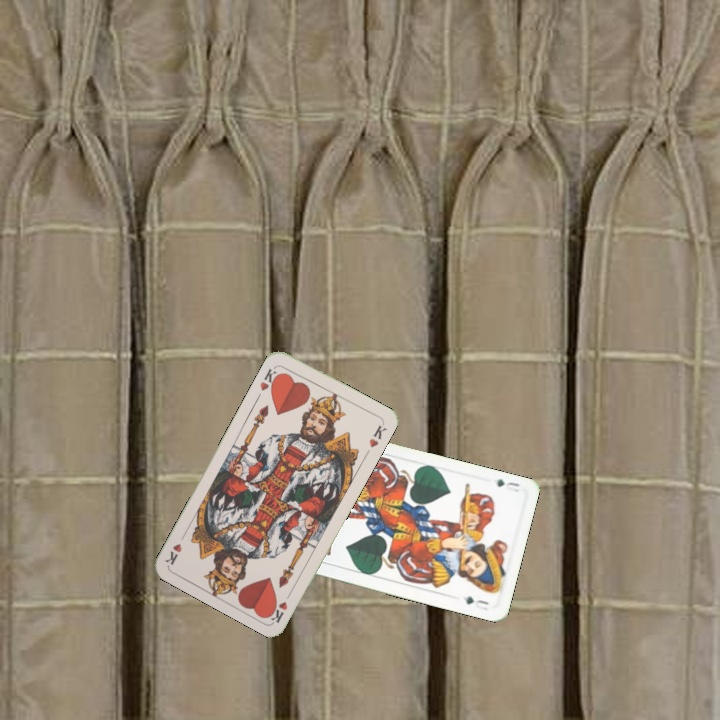GU: (492, 475, 523, 494)
HK: (265, 586, 295, 625), (256, 362, 283, 394)
